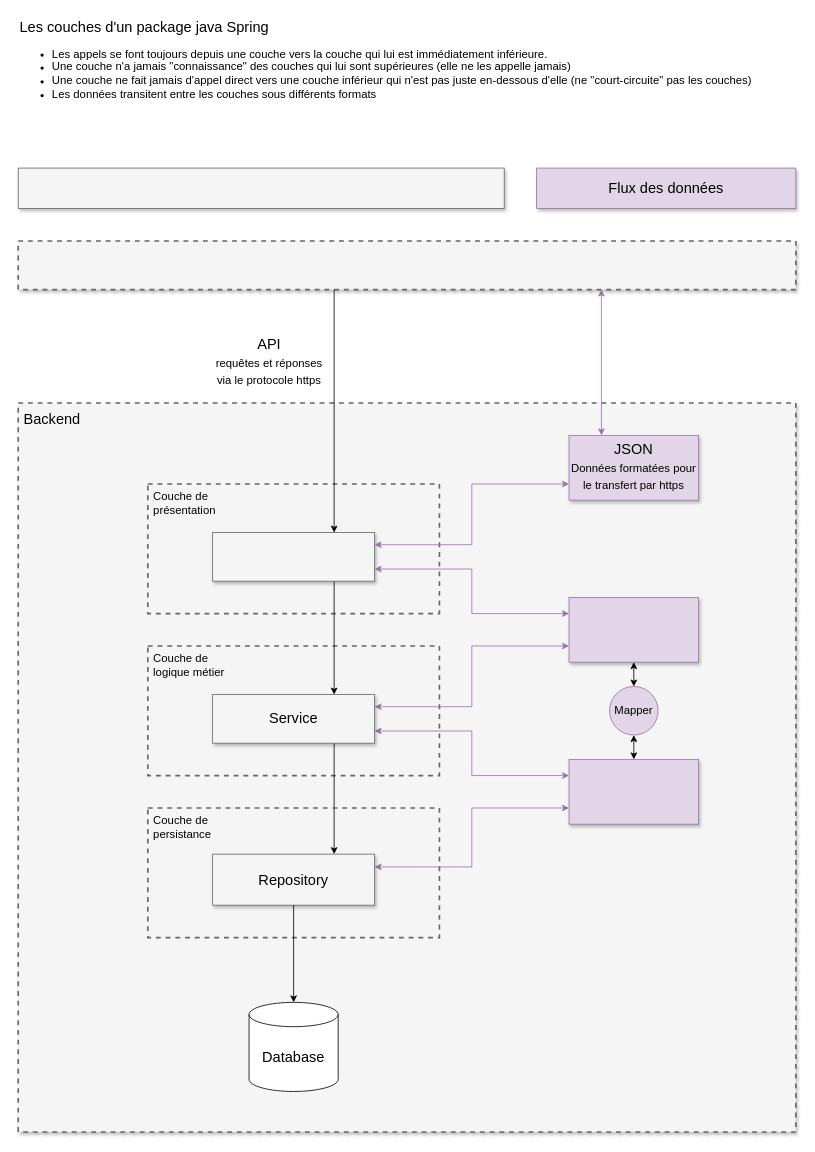
The diagram is 815 pixels wide and 1152 high, and some of its shapes have lost their labels. Here are the shapes that lost their labels. From the top down, the centre of each, then its label:
the point at 261,189: Flux des appels entre les couches (toujours du haut vers le bas)
the point at 407,266: Frontend
the point at 294,558: Controller REST
the point at 634,630: DTO Données exposées à l'extérieur
the point at 634,792: Entity Données stockées dans la base de données
